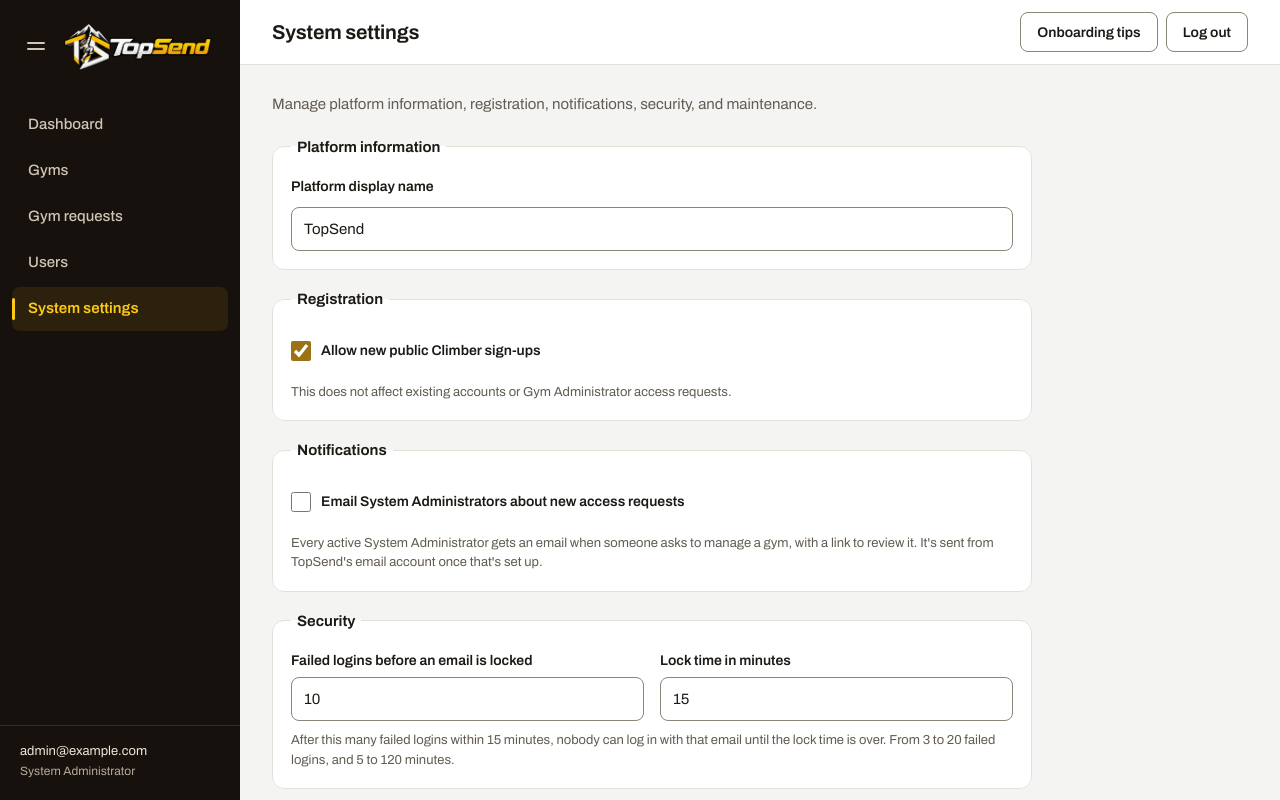
Scenario: US-010 system settings › removes the editable form when save loses authorization (401)
Replace the text in the field labelled "Platform display name" with "Other". click: (652, 229)
box: x1=291 y1=207 x2=1013 y2=251
(page scrolled)
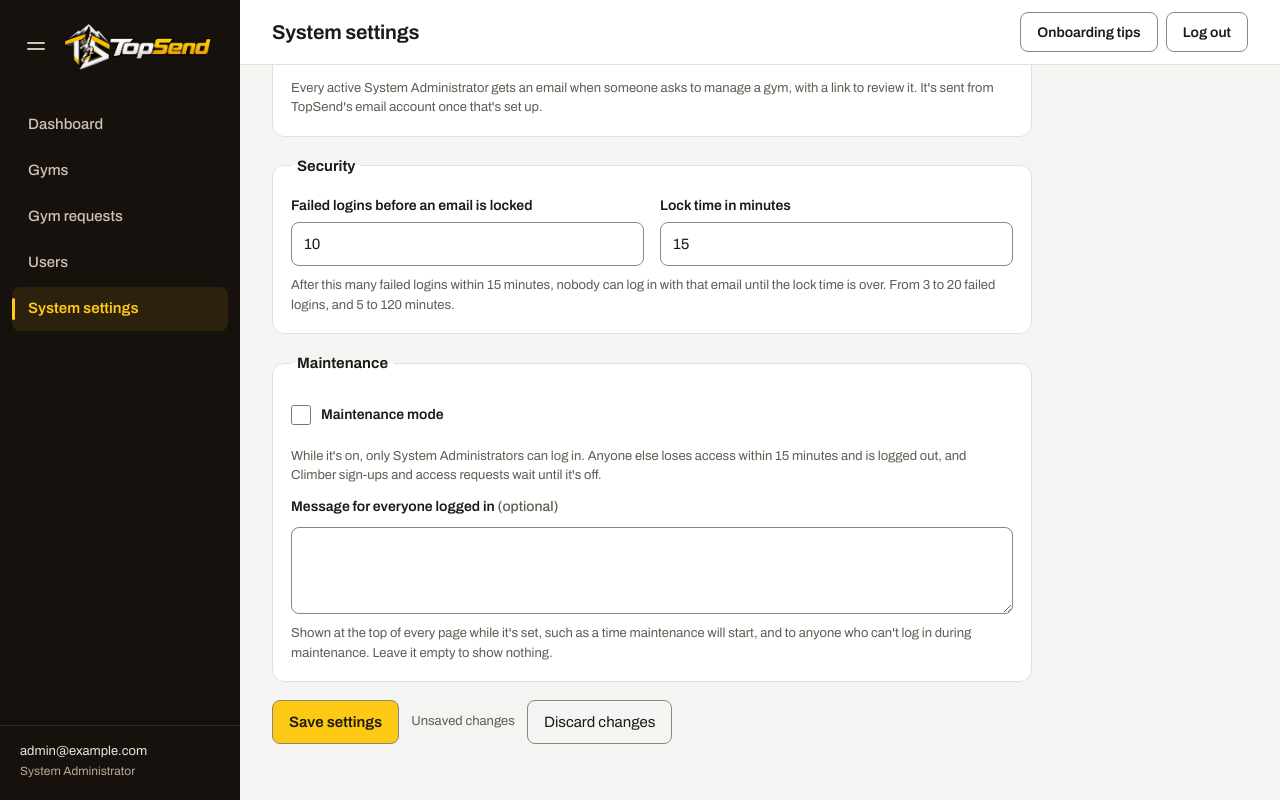
Click the button "Save settings". click: (336, 722)
box: x1=272 y1=700 x2=399 y2=744
(page scrolled)
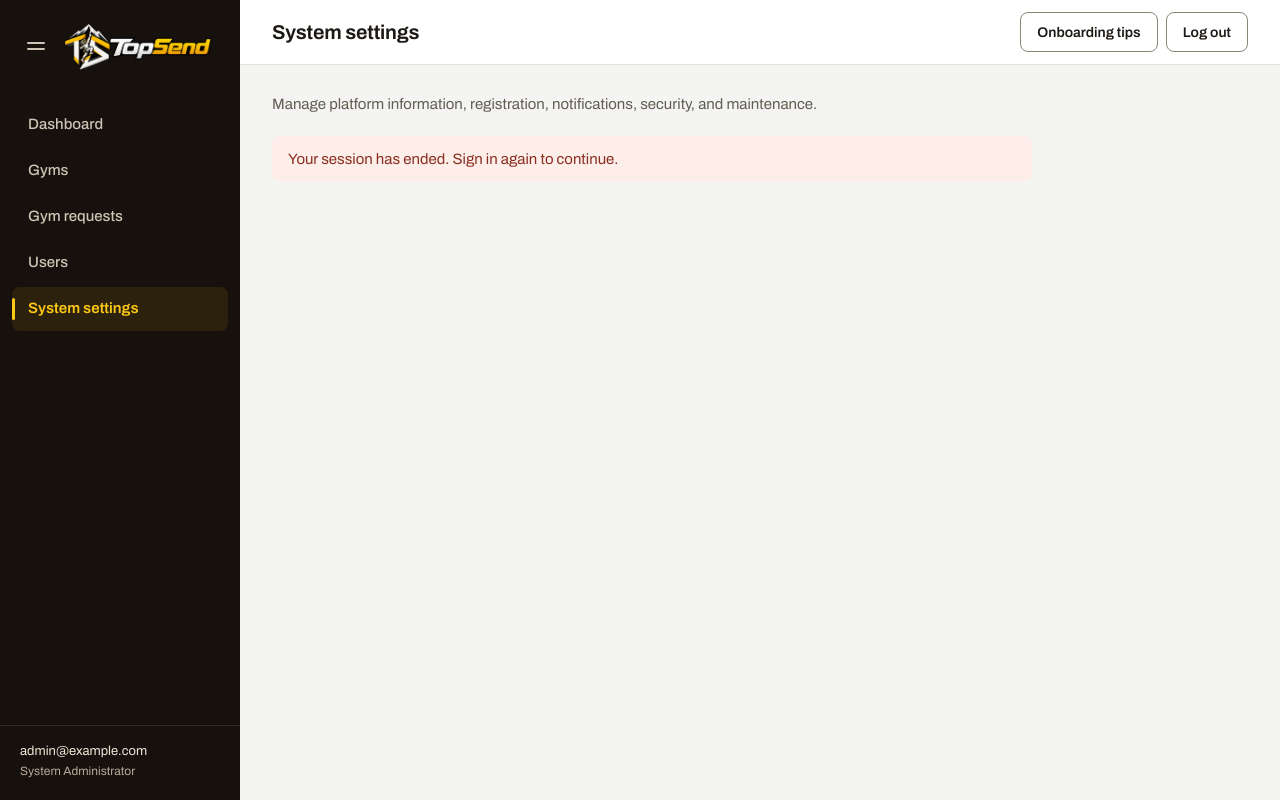
Check: the message "Your session has ended. Sign in again to continue." is shown, box x1=272 y1=136 x2=1032 y2=182
